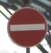No entry: (5, 6, 46, 47)
